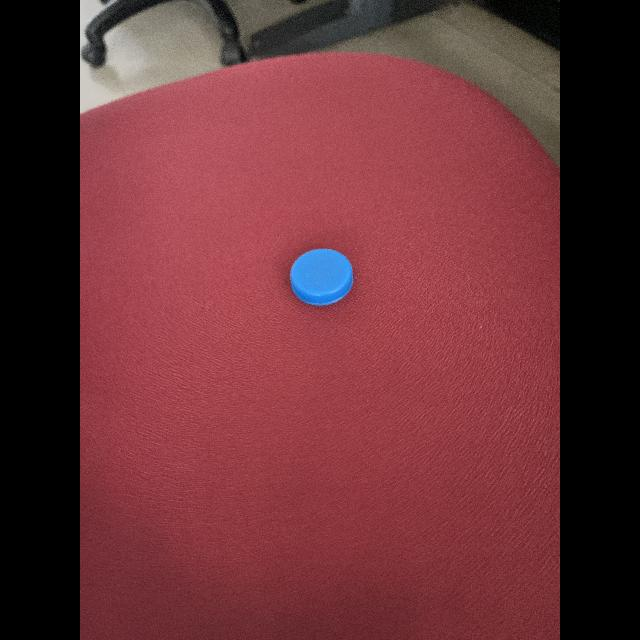plastic_bottle_cap: (286, 242, 356, 310)
